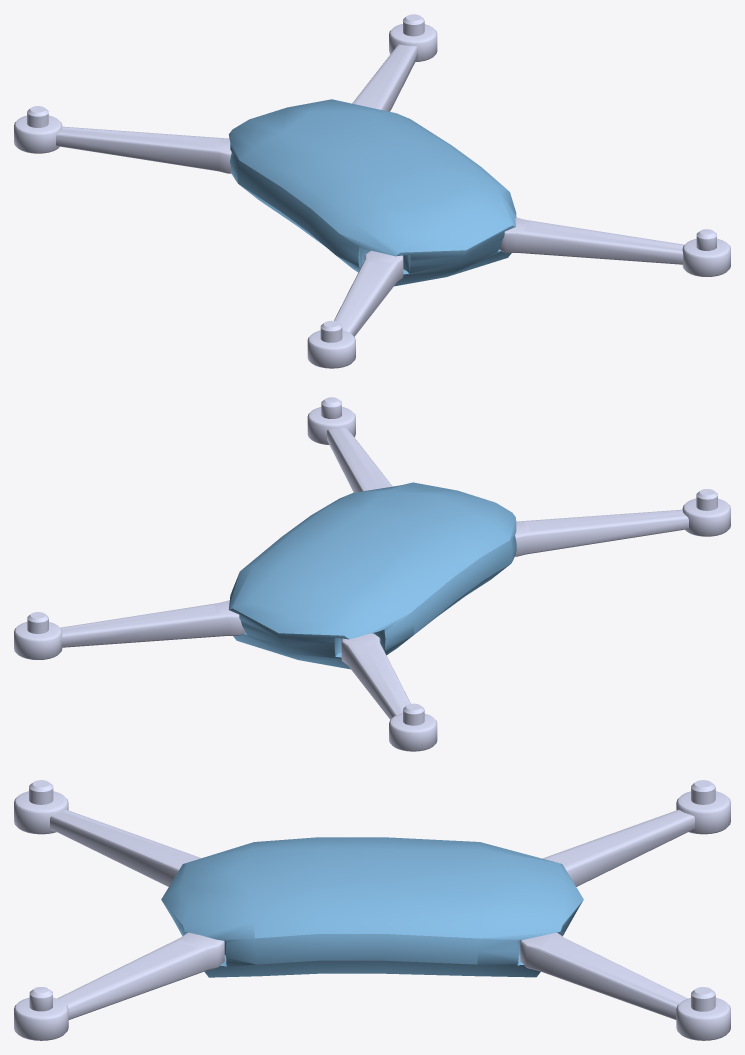
Rendered from droneBody.fbx.
The picture shows the model from 3 angles, top to bottom: view 1: azimuth 30°, elevation 25°; view 2: azimuth 150°, elevation 25°; view 3: azimuth 270°, elevation 25°; orthographic projection. The views are drawn at different scales.
Parts seen in each view (by area): view 1: DroneBody; view 2: DroneBody; view 3: DroneBody.
Boxes of the visible parts, x1=… form: DroneBody: x1=14, y1=14, x2=730, y2=368; DroneBody: x1=14, y1=397, x2=730, y2=751; DroneBody: x1=14, y1=780, x2=730, y2=1040.
Size of the model in its own units: 244 by 39.22 by 323.
